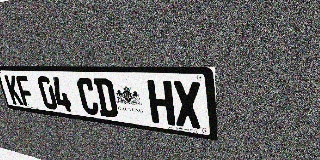0: (36, 76, 58, 110)
4: (50, 77, 73, 112)
C: (76, 77, 100, 116)
D: (93, 78, 119, 118)
F: (15, 75, 35, 107)
H: (147, 80, 175, 126)
K: (4, 75, 24, 106)
X: (172, 81, 202, 129)
